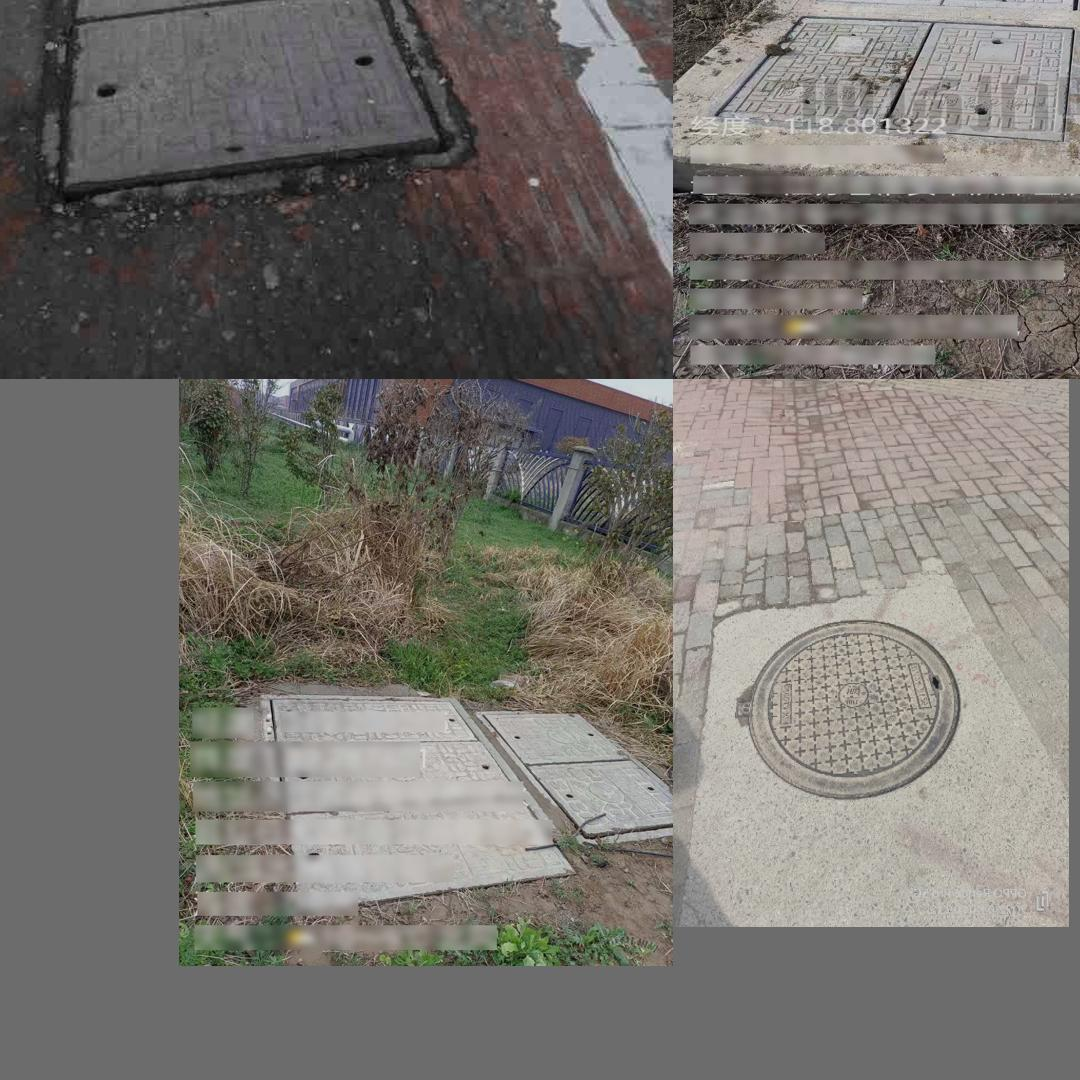good: (38, 0, 475, 213), (258, 693, 578, 909), (706, 14, 1080, 145), (745, 616, 954, 802), (477, 710, 673, 845), (810, 0, 1080, 15)
